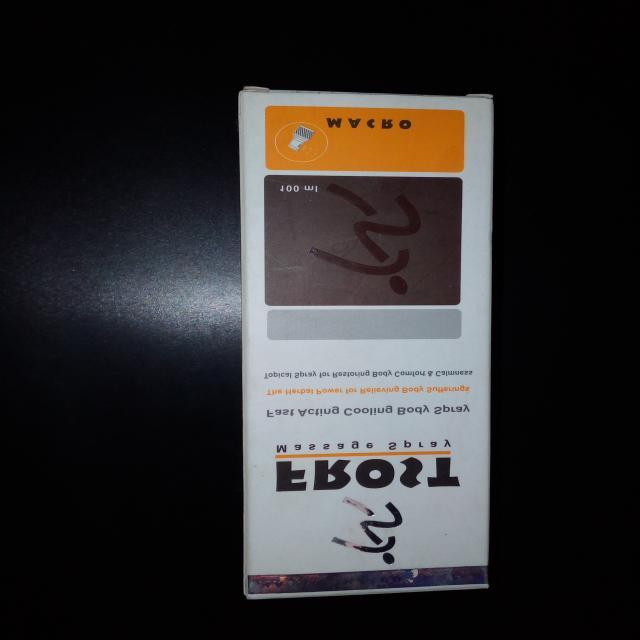Medicine Name: (262, 455, 475, 497)
